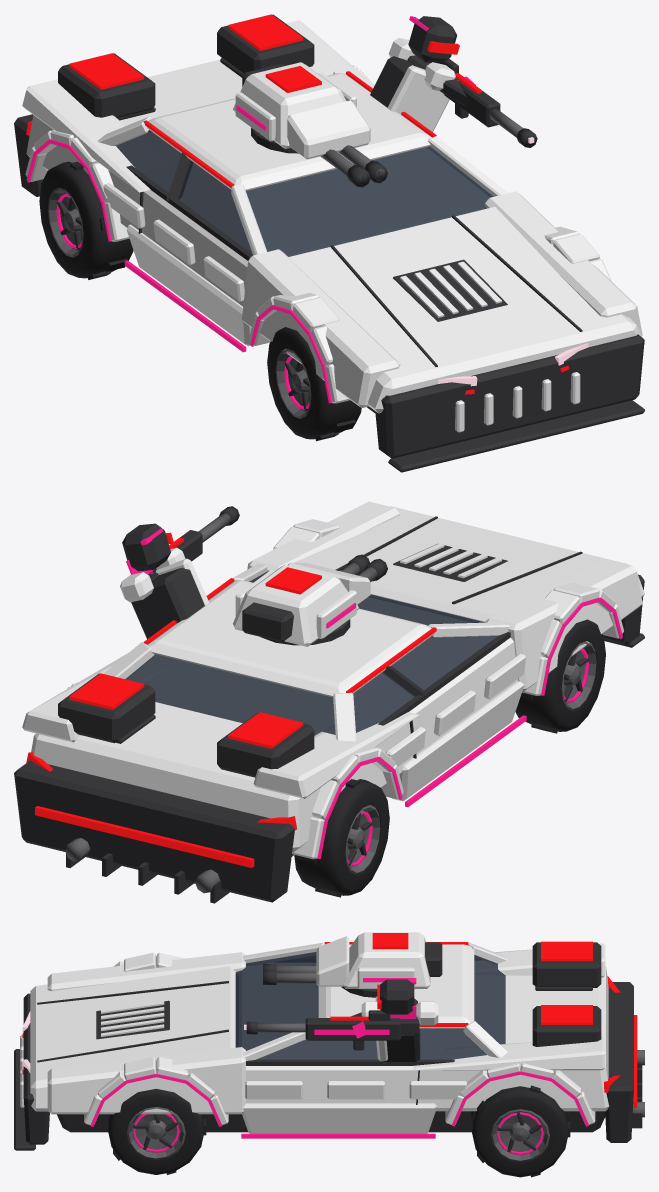
Rendered from gunner_phone.glb.
3 renders of one model, top to bottom at view 1: azimuth 30°, elevation 25°; view 2: azimuth 150°, elevation 25°; view 3: azimuth 270°, elevation 25°, orthographic. The views are drawn at different scales.
Visible parts, largest first — view 1: gunner_body, turret_mesh, wheel_RL_mesh, wheel_FL_mesh; view 2: gunner_body, turret_mesh, wheel_RL_mesh, wheel_FL_mesh; view 3: gunner_body, turret_mesh, wheel_RR_mesh, wheel_FR_mesh.
Part boxes in pixels (box(x1,y1,x2,y2)): gunner_body: box(14, 14, 644, 472); turret_mesh: box(233, 62, 387, 187); wheel_RL_mesh: box(39, 161, 133, 279); wheel_FL_mesh: box(267, 327, 361, 441); gunner_body: box(14, 501, 644, 903); turret_mesh: box(233, 554, 387, 646); wheel_RL_mesh: box(294, 779, 389, 897); wheel_FL_mesh: box(515, 619, 605, 733); gunner_body: box(14, 941, 644, 1150); turret_mesh: box(263, 932, 442, 997); wheel_RR_mesh: box(471, 1085, 570, 1177); wheel_FR_mesh: box(107, 1088, 206, 1174).
Bounding box in the file's own units: 2.15 × 1.59 × 4.61.
6 materials, 1 textured.
